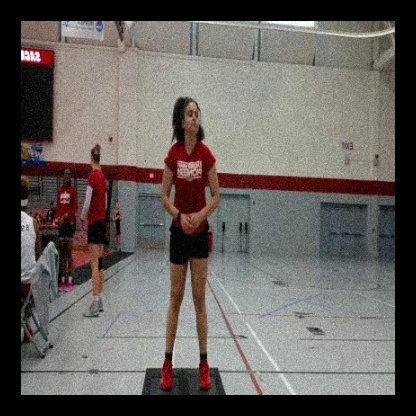lateral_flexion_left: (157, 92, 221, 395)
stance_width_normal: (158, 140, 221, 393)
